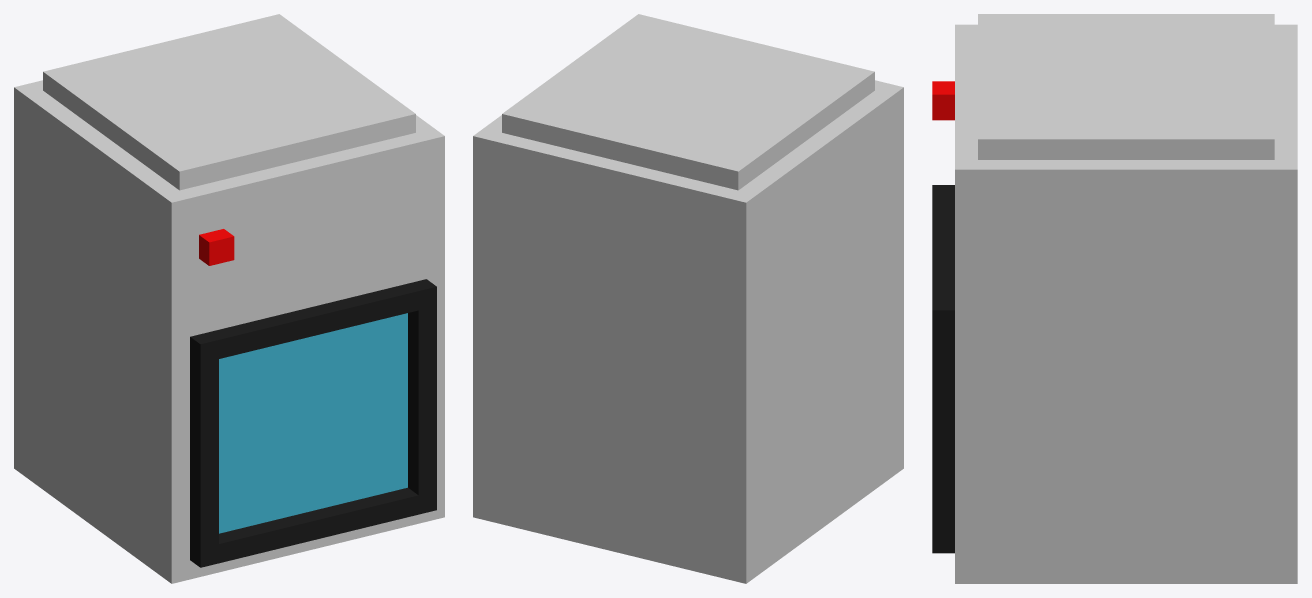
File: Wasing Machine.fbx
3 views of the same model, side by side, from view 1: azimuth 30°, elevation 25°; view 2: azimuth 150°, elevation 25°; view 3: azimuth 270°, elevation 25° (orthographic). The views are drawn at different scales.
Visible parts, largest first — view 1: Washing Machine; view 2: Washing Machine; view 3: Washing Machine.
Part boxes in pixels (x1,y1,x2,y2): Washing Machine: (14, 14, 444, 583); Washing Machine: (473, 14, 903, 583); Washing Machine: (932, 14, 1297, 583).
Bounding box in the file's own units: 0.6 × 0.8396 × 0.6396.
